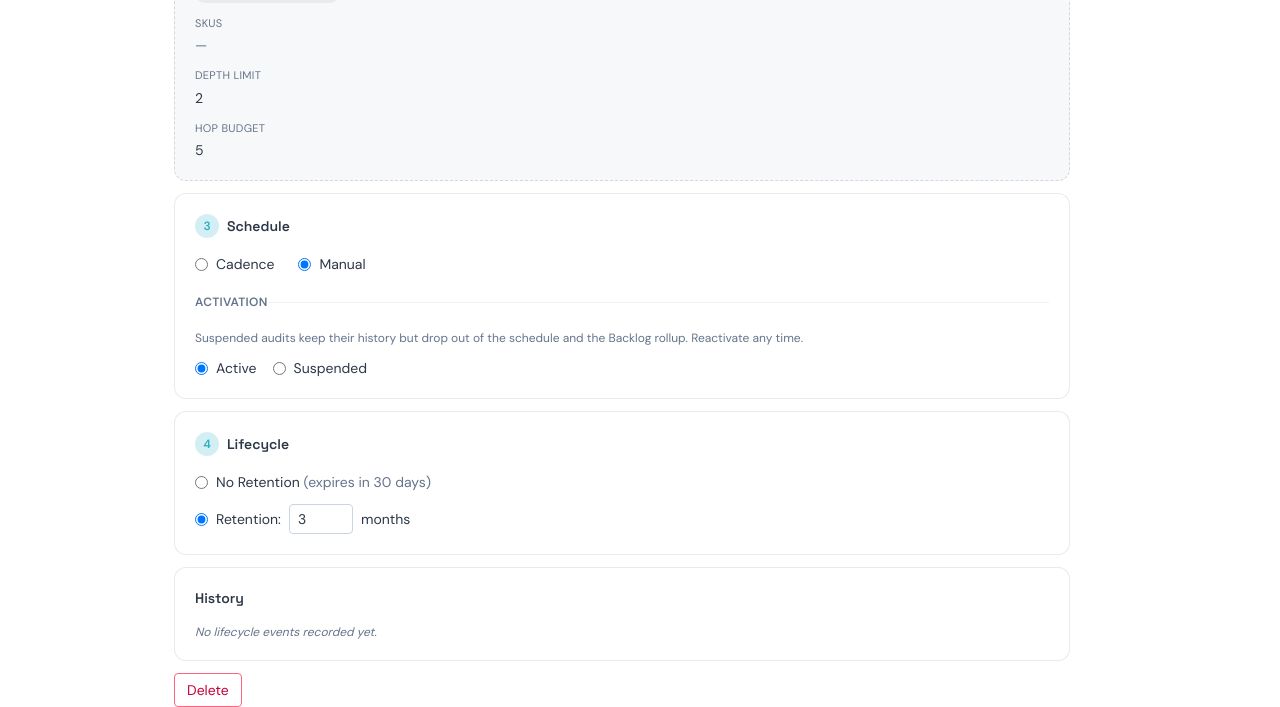
DefinitionEditor (audit) › opens a confirmation dialog on Delete without sending anything yet
The width and height of the screenshot is (1280, 707).
(page scrolled)
Click the button "Delete". click: (208, 690)
box: x1=174 y1=673 x2=242 y2=706
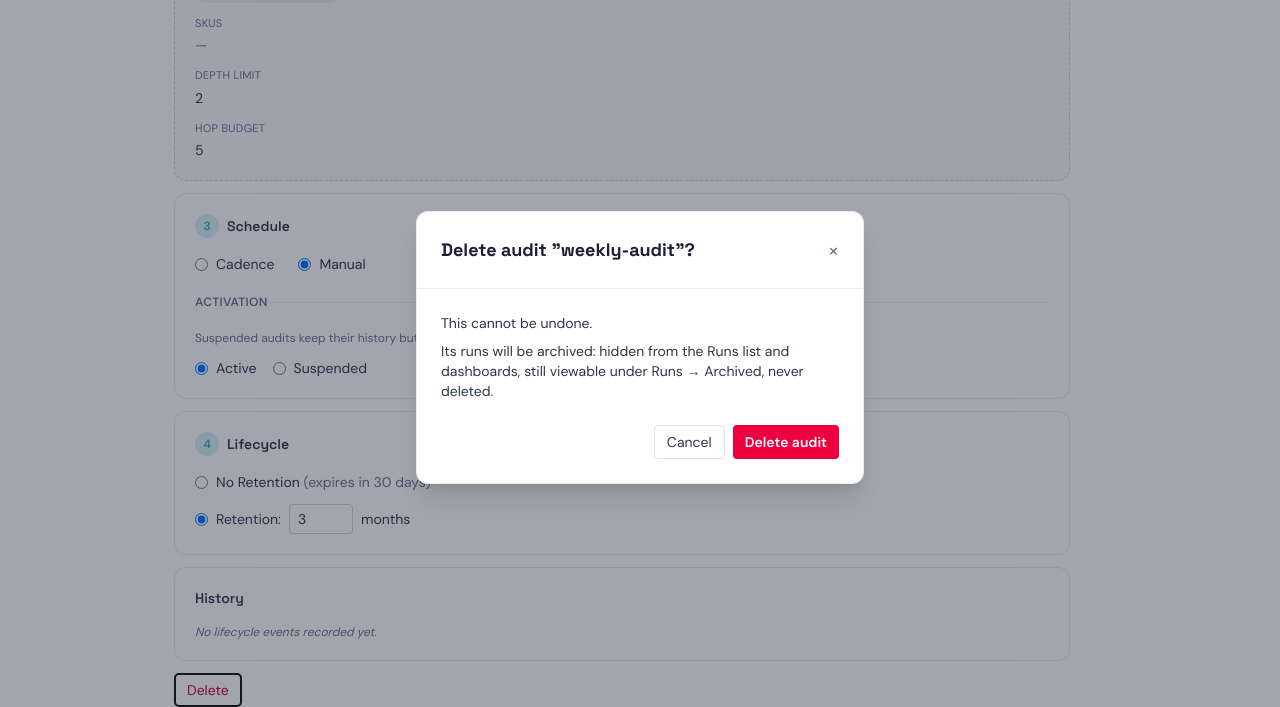
Expected: the dialog "Delete audit \"weekly-audit\"?" is shown, x1=416 y1=210 x2=864 y2=484
Expected: the dialog "Delete audit \"weekly-audit\"?" shows "Its runs will be archived", x1=441 y1=342 x2=804 y2=400
